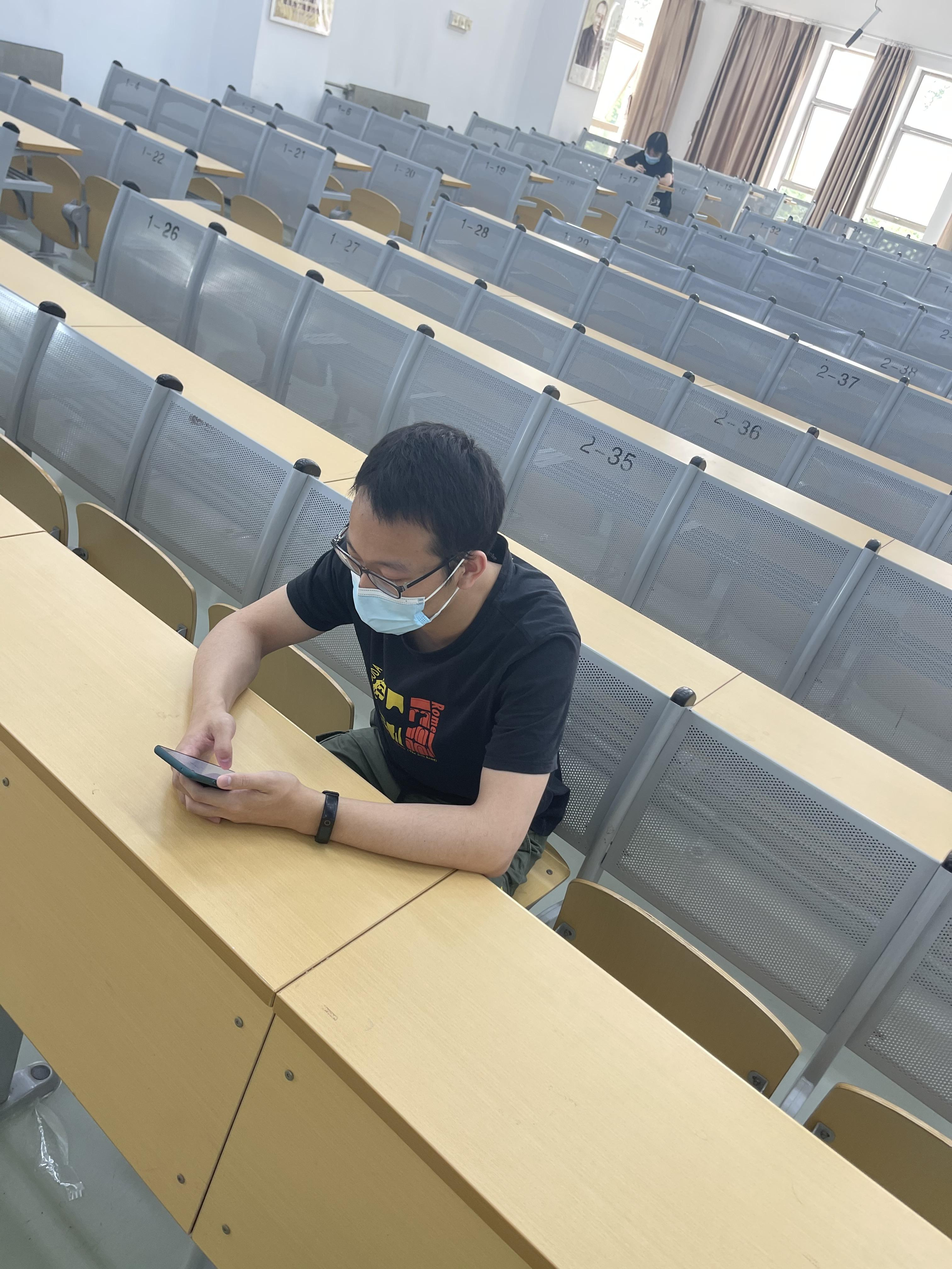phone: (190, 421, 572, 879)
